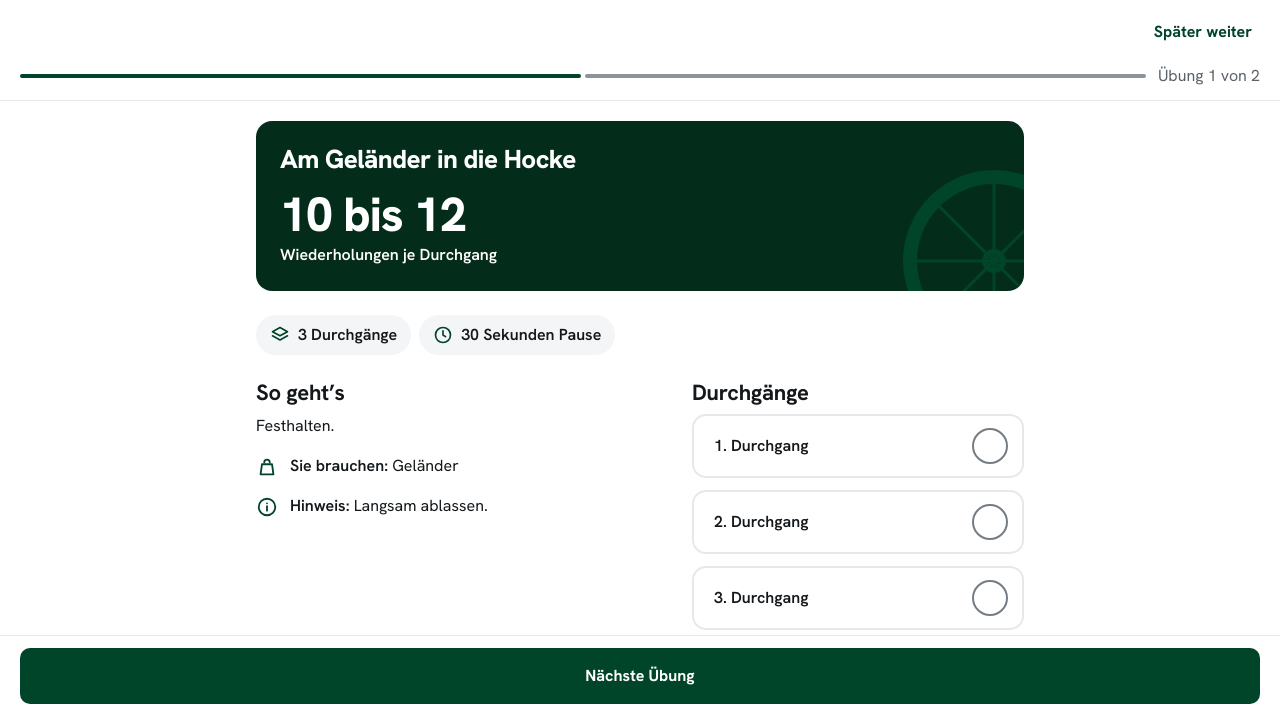
it: Durchführungsansicht (UEB-010, TRK-008) › führt Übung für Übung, hakt ab und überträgt sofort
This screenshot has width=1280, height=720.
Check: the heading "Am Geländer in die Hocke" is shown, box [280,142,576,176]
Check: the text "Übung 1 von 2" is shown, box [1158,64,1260,88]
Click the button "1. Durchgang": click(766, 446) [692,414,1024,478]
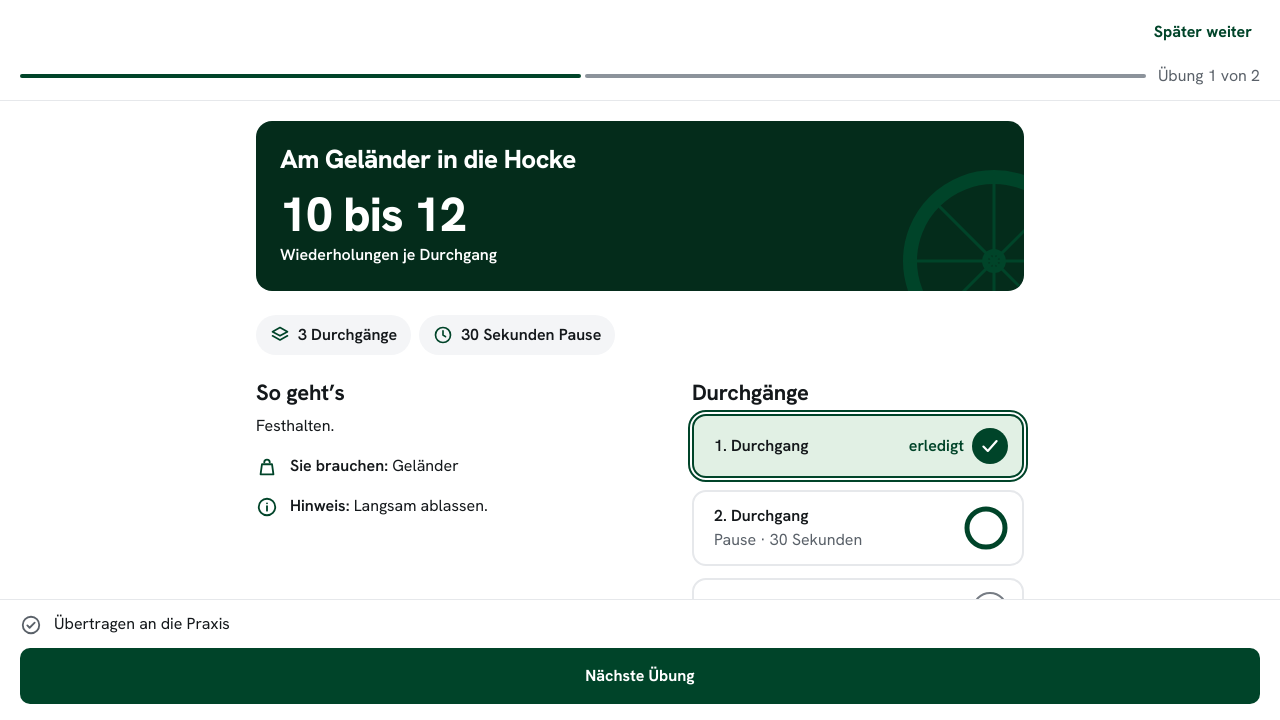
Check: the text "Übertragen an die Praxis" is shown, box [20,613,230,636]
Click the button "2. Durchgang Pause · 30 Sekunden": click(858, 528) [692,490,1024,566]
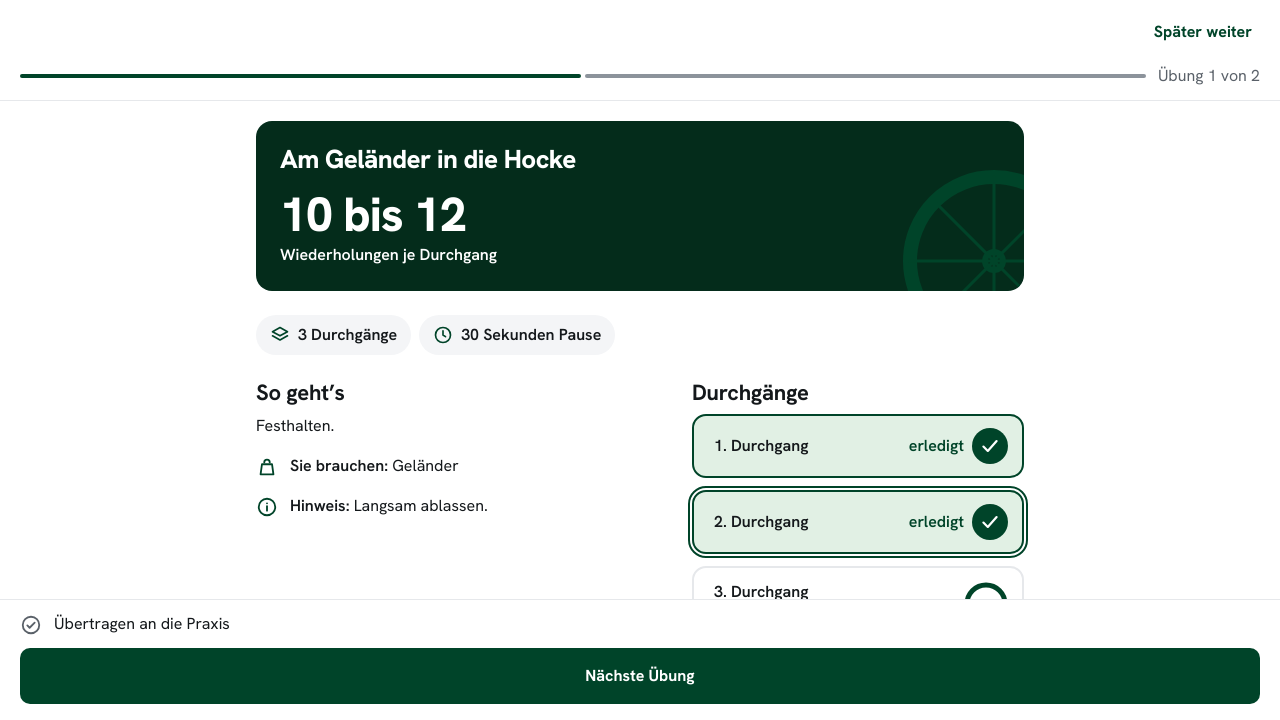
Click the button "Nächste Übung": click(640, 676) [20,648,1260,704]
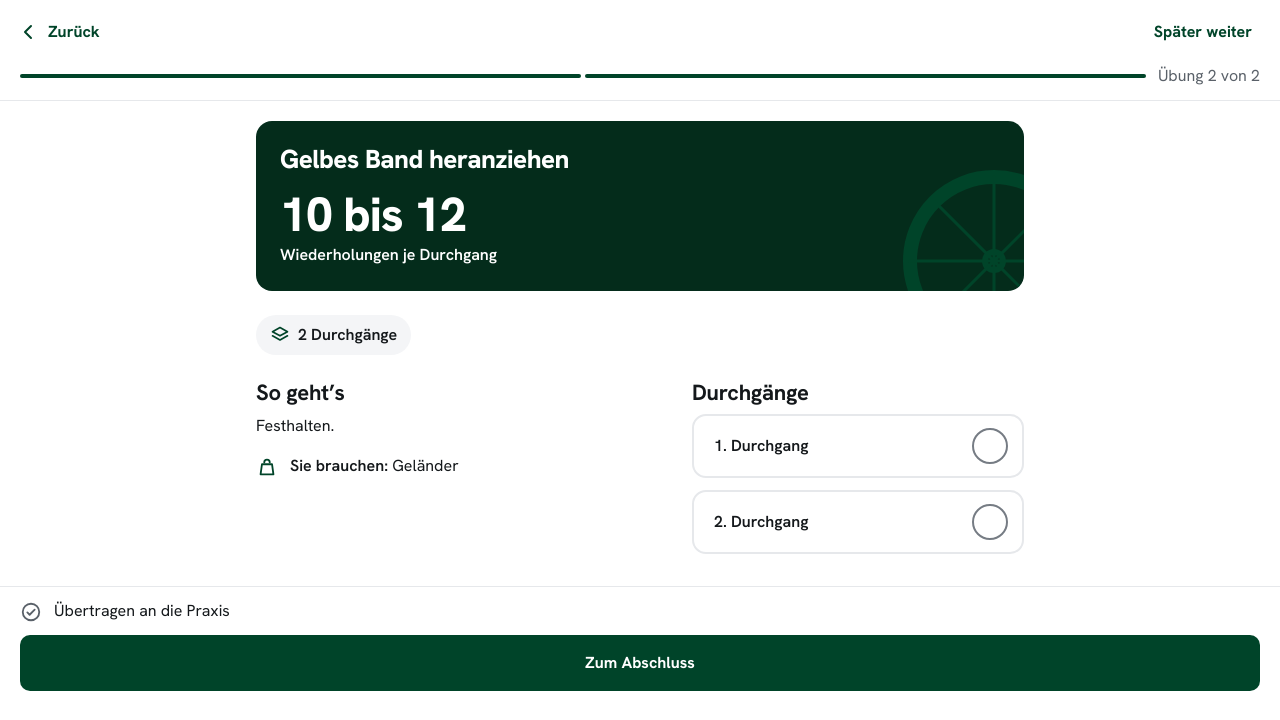
Check: the heading "Gelbes Band heranziehen" is shown, box [280,142,569,176]
Check: the number of buttons "1. Durchgang" is 2, box [692,414,1024,478]; [692,490,1024,554]
